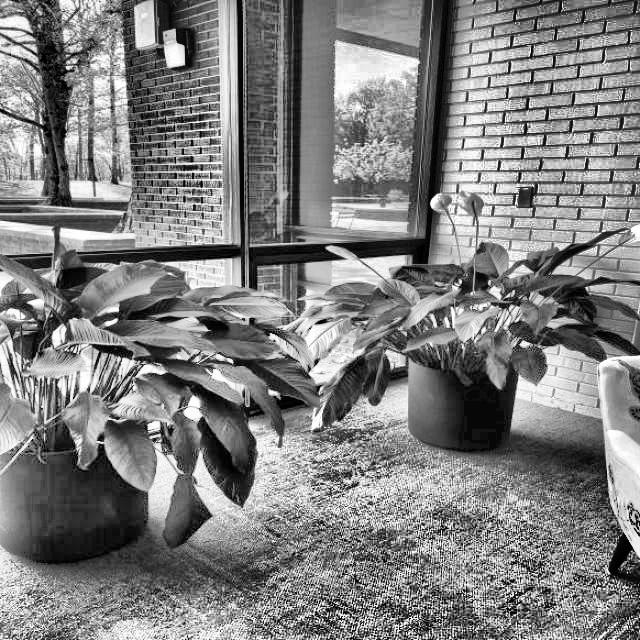plants: (0, 174, 287, 578), (284, 142, 602, 456)
